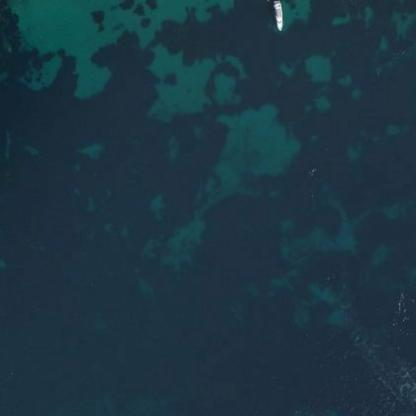ship: (271, 0, 285, 17)
